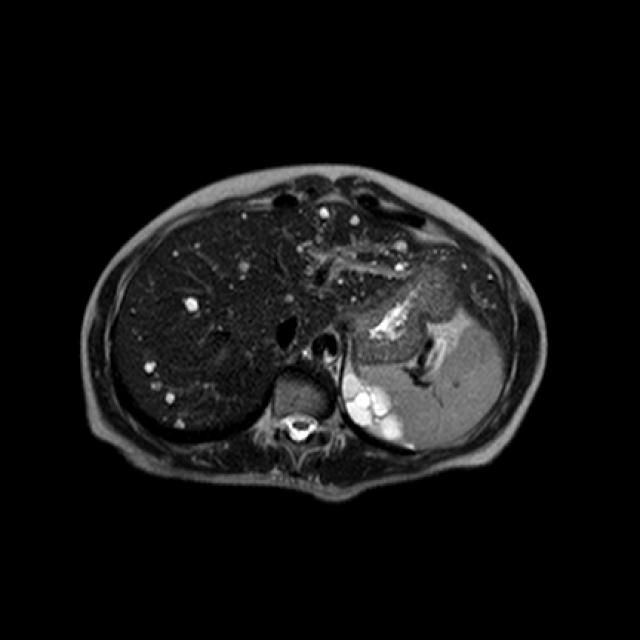sol: (343, 374, 419, 452)
